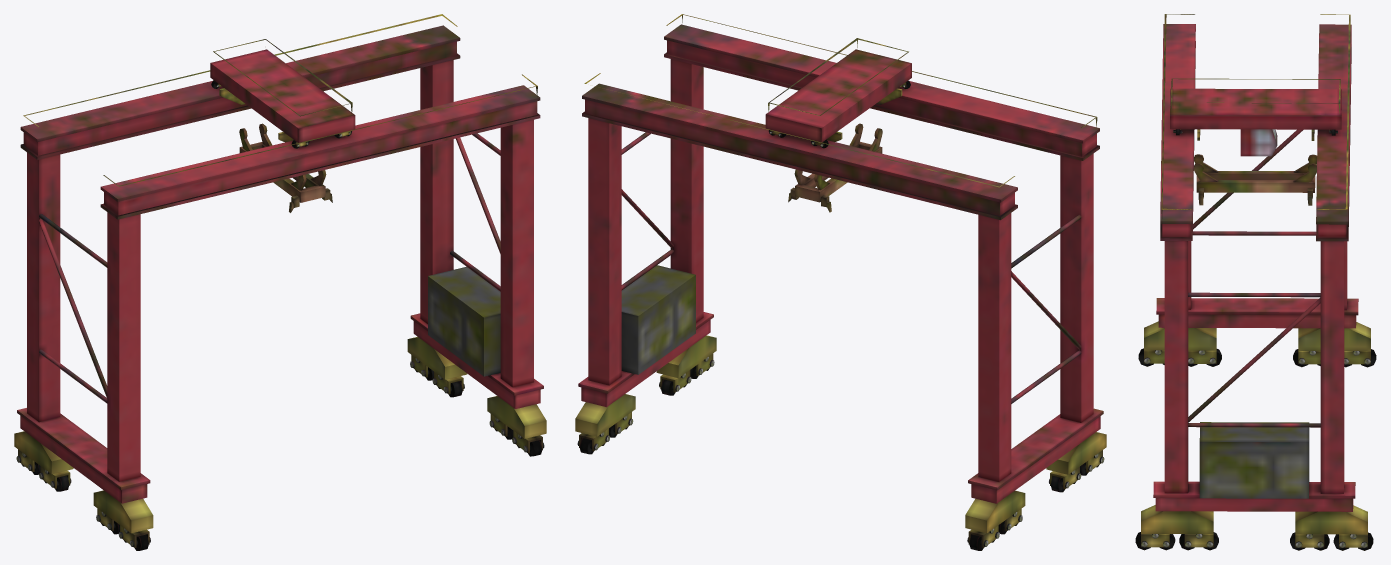
File: BS_Crane_3__3_.001.fbx
3 renders of one model, left to right at view 1: azimuth 30°, elevation 25°; view 2: azimuth 150°, elevation 25°; view 3: azimuth 270°, elevation 25°, orthographic. The views are drawn at different scales.
Visible parts, largest first — view 1: BS_Crane_3__3__001; view 2: BS_Crane_3__3__001; view 3: BS_Crane_3__3__001.
Part boxes in pixels (x1,y1,x2,y2): BS_Crane_3__3__001: (14,14,546,550); BS_Crane_3__3__001: (575,14,1106,550); BS_Crane_3__3__001: (1135,14,1376,550).
Size of the model in its own units: 2103 by 1798 by 1068.
